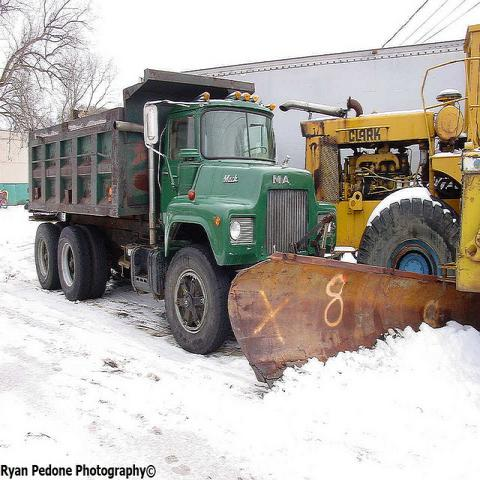truck: (25, 71, 336, 355)
